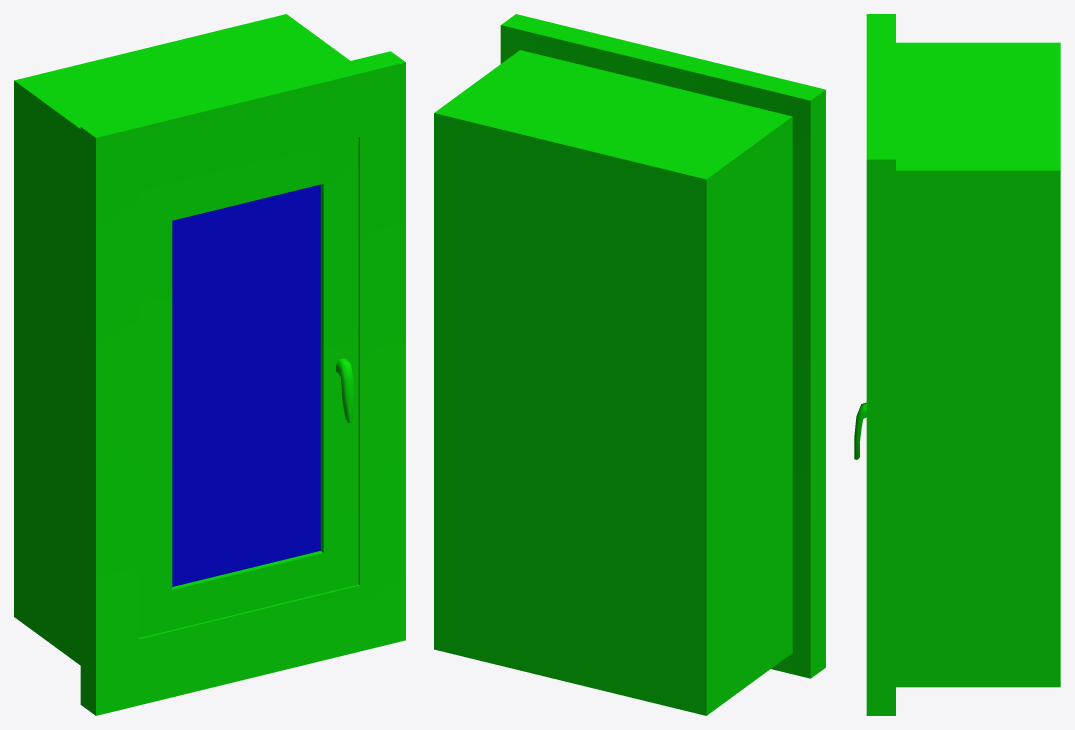
File: PateintFire.fbx
The picture shows the model from 3 angles, left to right: view 1: azimuth 30°, elevation 25°; view 2: azimuth 150°, elevation 25°; view 3: azimuth 270°, elevation 25°; orthographic projection. The views are drawn at different scales.
Visible parts, largest first — view 1: Fire; view 2: Fire; view 3: Fire.
Boxes of the visible parts, x1,y1,x2,y2 form: Fire: (14,14,405,715); Fire: (434,14,825,715); Fire: (854,14,1060,715).
Bounding box in the file's own units: 0.5491 × 0.9787 × 0.3287.
